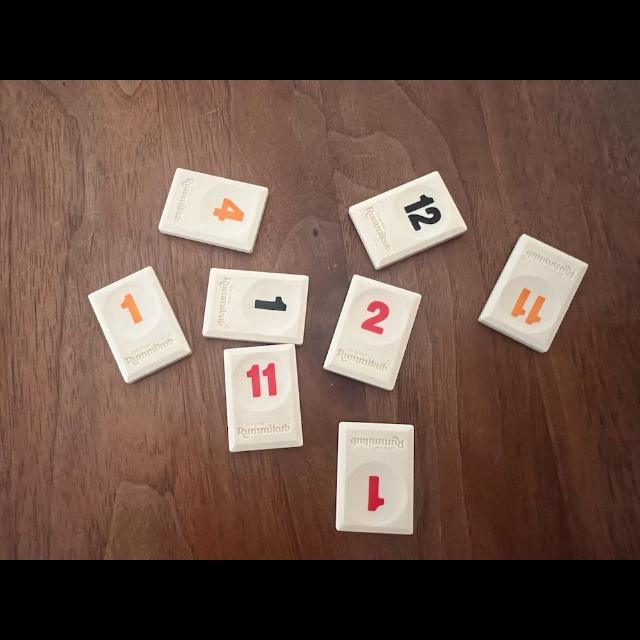black_1: (202, 269, 309, 345)
black_12: (349, 171, 466, 269)
orange_1: (89, 266, 191, 382)
orange_11: (479, 235, 588, 352)
orange_4: (159, 168, 269, 252)
red_1: (336, 422, 414, 535)
red_11: (224, 344, 302, 451)
red_2: (324, 275, 421, 390)
